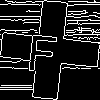F: (25, 25, 60, 74)
